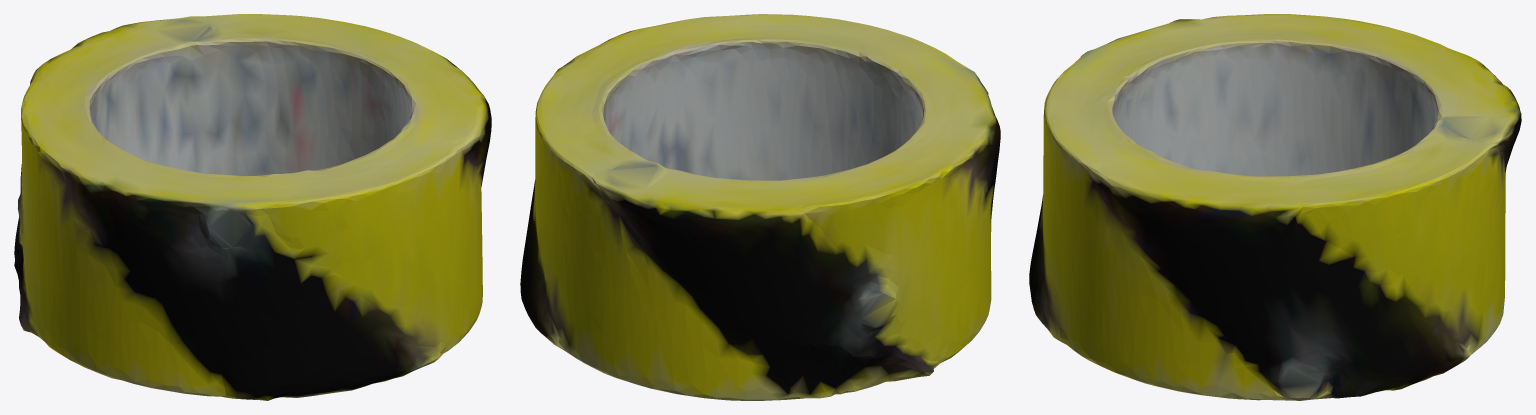
The picture shows the model from 3 angles, left to right: view 1: azimuth 30°, elevation 25°; view 2: azimuth 150°, elevation 25°; view 3: azimuth 270°, elevation 25°; orthographic projection.
Visible parts, largest first — view 1: scan.ply; view 2: scan.ply; view 3: scan.ply.
Boxes of the visible parts, x1=… form: scan.ply: x1=14, y1=14, x2=491, y2=400; scan.ply: x1=520, y1=14, x2=1000, y2=400; scan.ply: x1=1029, y1=14, x2=1521, y2=400.
Bounding box in the file's own units: 0.1119 × 0.0525 × 0.1166.
